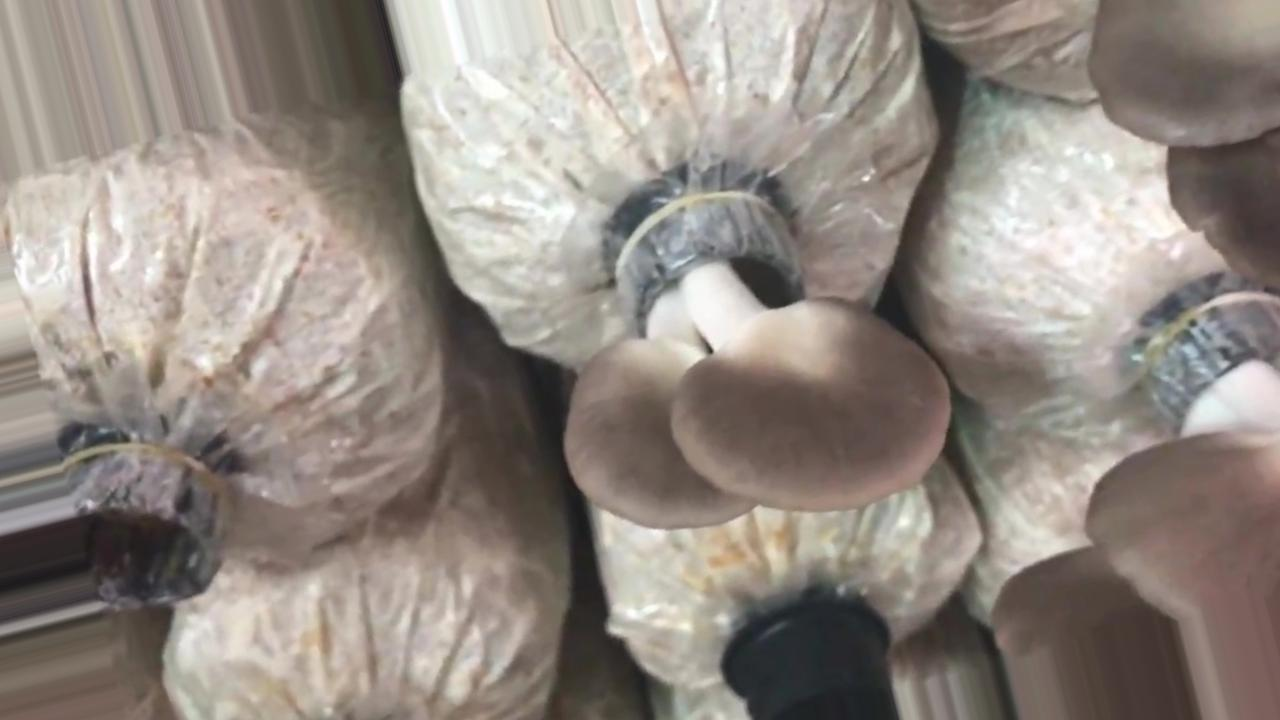nam: (573, 185, 946, 525), (1038, 310, 1280, 716), (1099, 1, 1280, 295)
